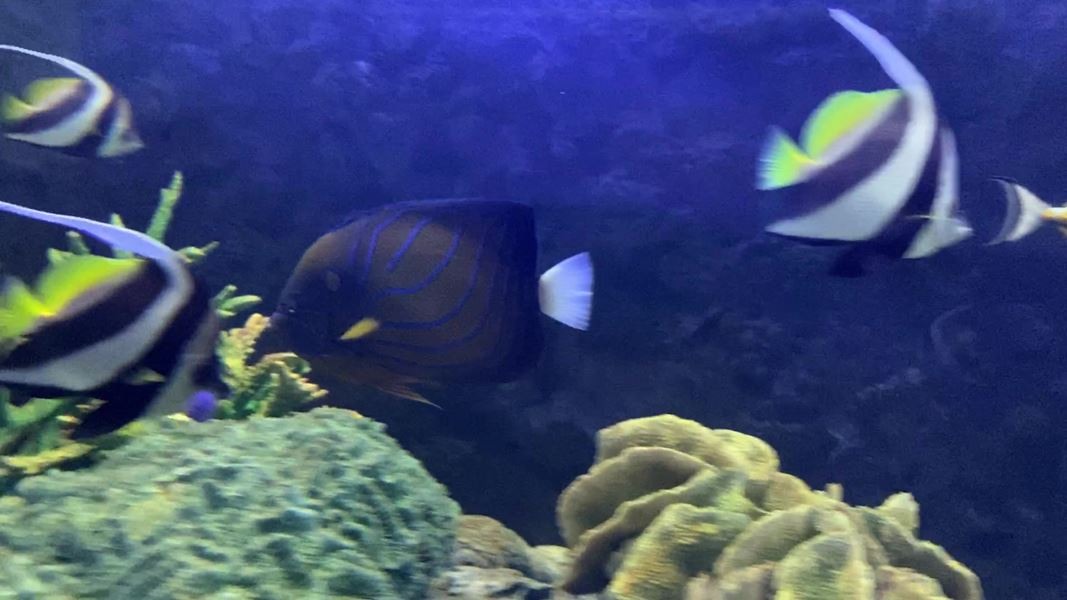Blue ring angelfish: (259, 187, 617, 437)
